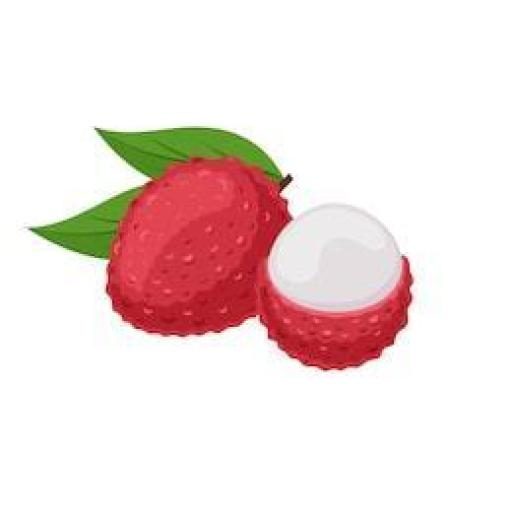lychee: (107, 158, 289, 334), (258, 205, 411, 370)
